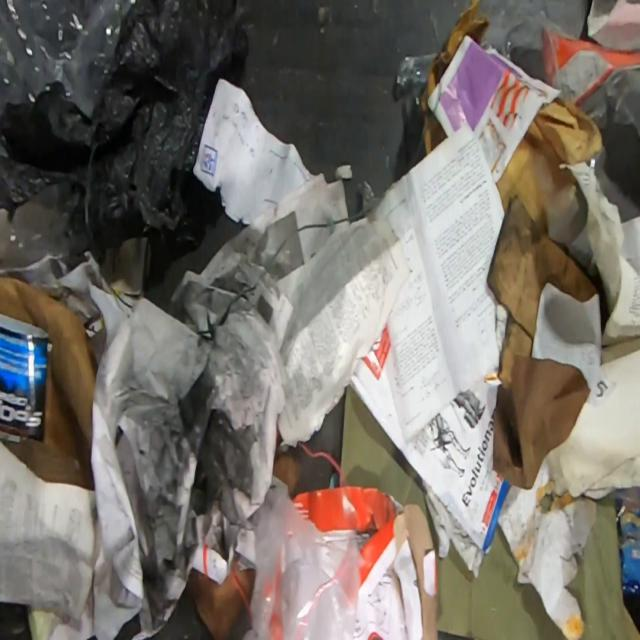cardboard: (338, 385, 639, 639), (486, 198, 598, 490), (296, 486, 438, 639), (0, 276, 98, 490), (496, 96, 600, 236), (420, 0, 490, 157)
rigid_plastic: (496, 6, 640, 142), (396, 9, 442, 169)
soft_plastic: (0, 0, 250, 253), (248, 476, 362, 640), (0, 0, 135, 118), (4, 181, 93, 271)
